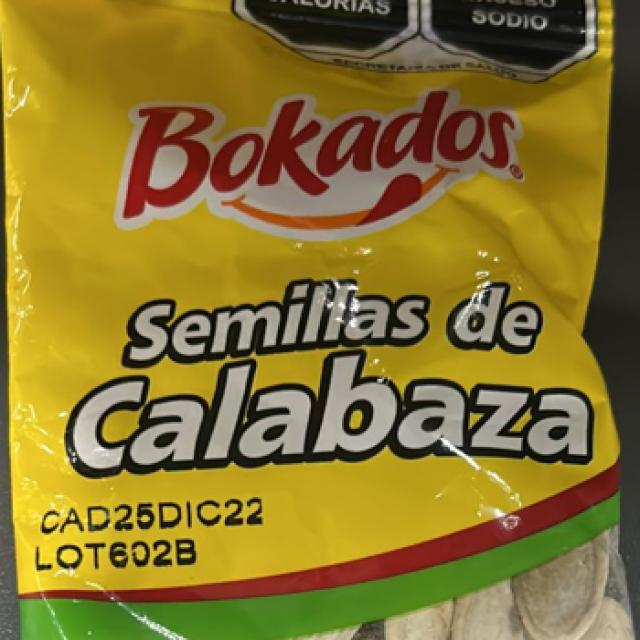semillasCalabaza: (6, 0, 599, 640)
